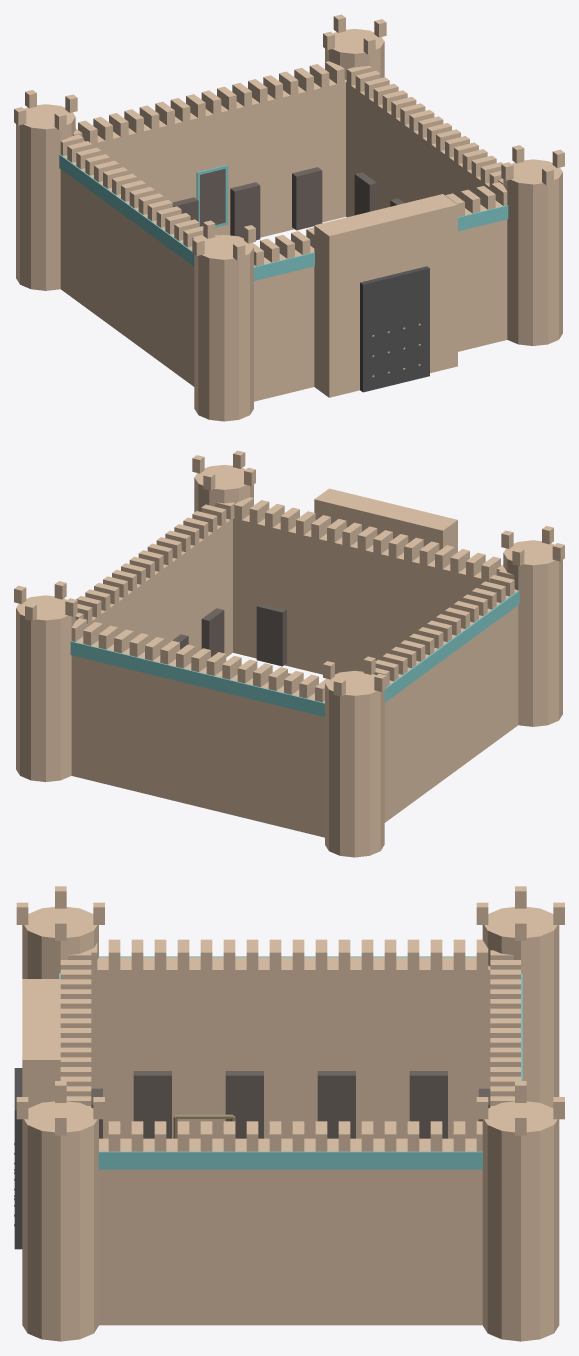
Rendered from Caravansary_MiddleEast.fbx.
The picture shows the model from 3 angles, top to bottom: view 1: azimuth 30°, elevation 25°; view 2: azimuth 150°, elevation 25°; view 3: azimuth 270°, elevation 25°; orthographic projection. The views are drawn at different scales.
Visible parts, largest first — view 1: Caravansary_MiddleEast_Mesh; view 2: Caravansary_MiddleEast_Mesh; view 3: Caravansary_MiddleEast_Mesh.
Part boxes in pixels (x1,y1,x2,y2): Caravansary_MiddleEast_Mesh: (14,14,564,421); Caravansary_MiddleEast_Mesh: (14,450,564,857); Caravansary_MiddleEast_Mesh: (14,886,564,1341).
Bounding box in the file's own units: 14.3 × 6.5 × 14.37.
